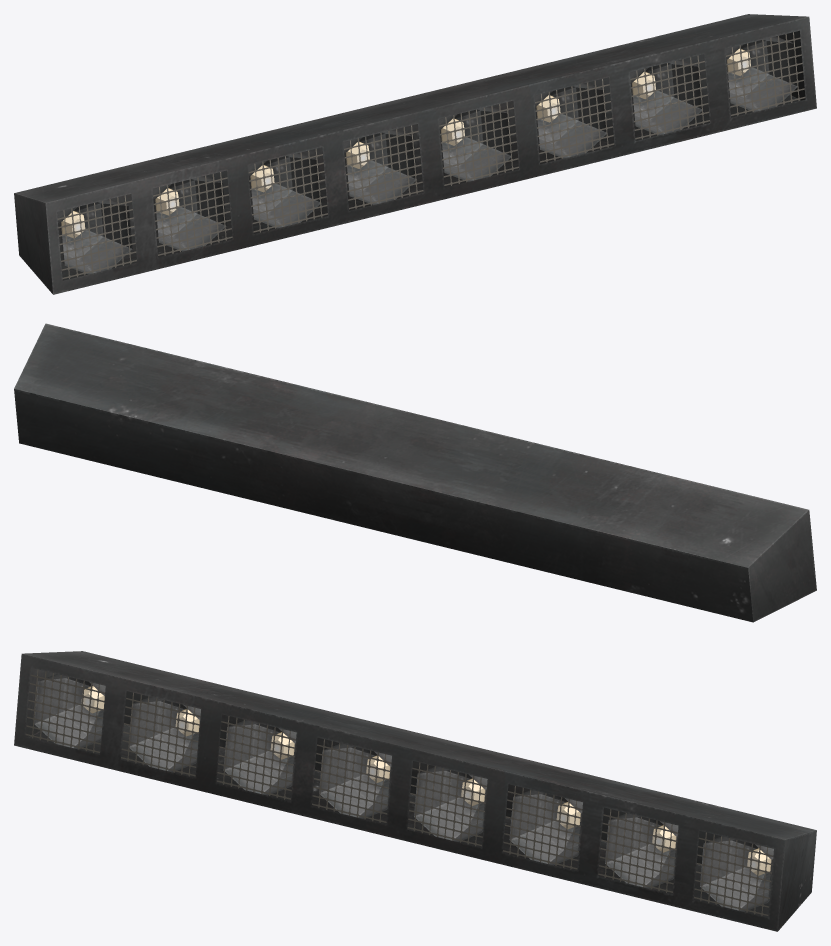
File: Theater.Light_3.fbx
3 views of the same model, one above another, from view 1: azimuth 30°, elevation 25°; view 2: azimuth 150°, elevation 25°; view 3: azimuth 330°, elevation 25° (orthographic).
Parts seen in each view (by area): view 1: Theater.Light_3; view 2: Theater.Light_3; view 3: Theater.Light_3.
Boxes of the visible parts, x1,y1,x2,y2 form: Theater.Light_3: [14, 14, 816, 294]; Theater.Light_3: [14, 323, 816, 622]; Theater.Light_3: [14, 651, 816, 931].
Bounding box in the file's own units: 173 × 18.73 × 21.25.
